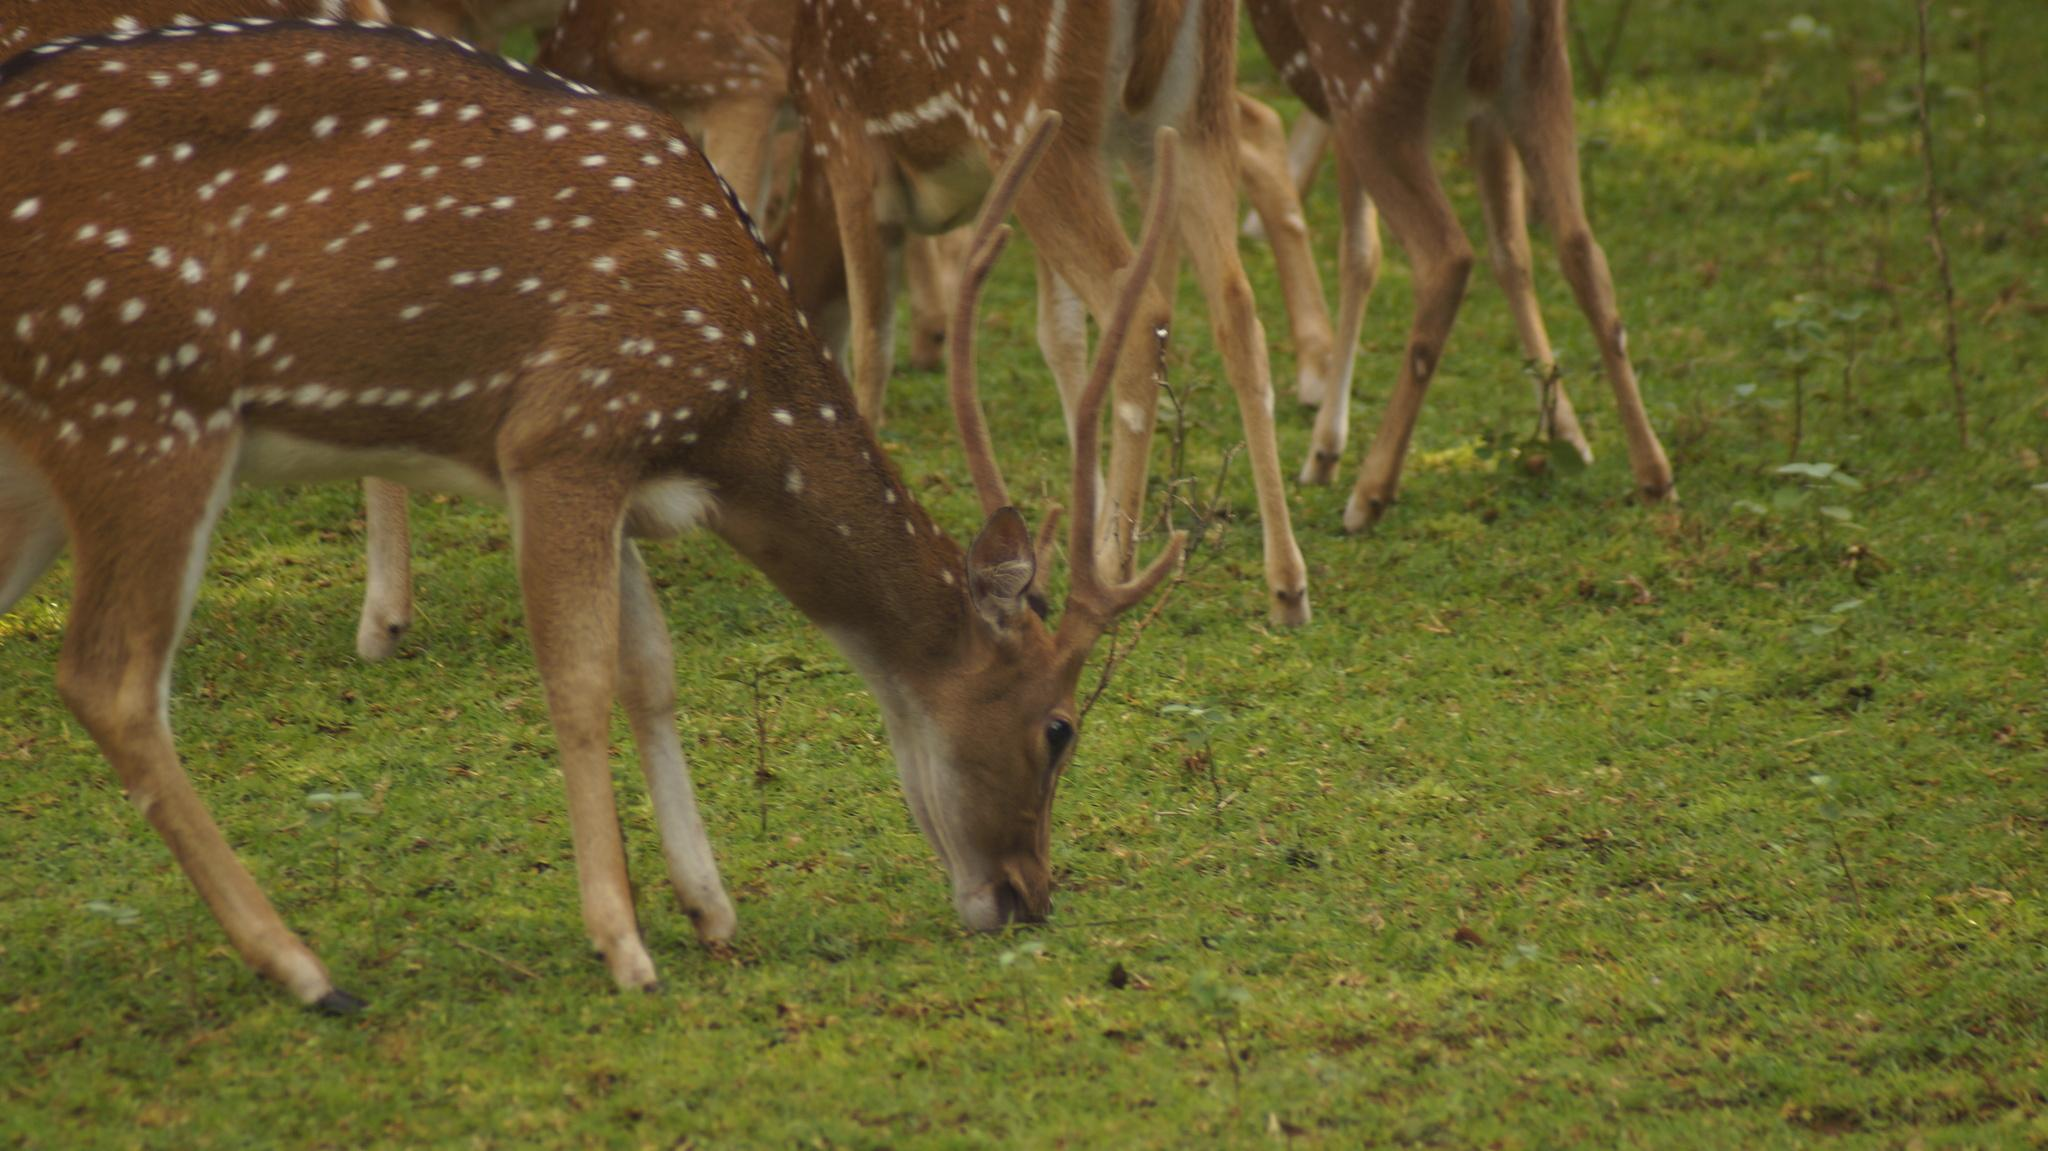Deer: (0, 20, 1182, 1007)
